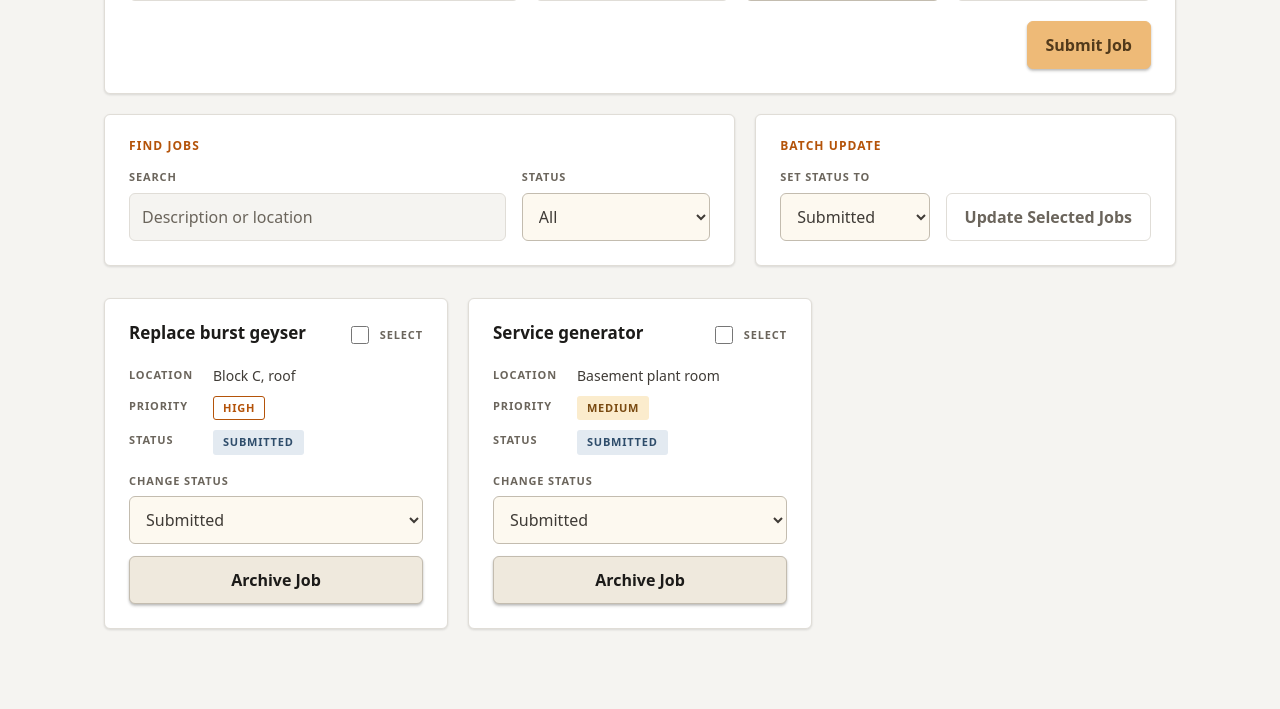
Test: loading and errors › still explains an empty search while an error is showing
(page scrolled)
Check: the heading "Replace burst geyser" is shown, box x1=129 y1=323 x2=321 y2=343
Click the button "Archive Job" below "high" at (276, 580), box x1=129 y1=556 x2=423 y2=604
(page scrolled)
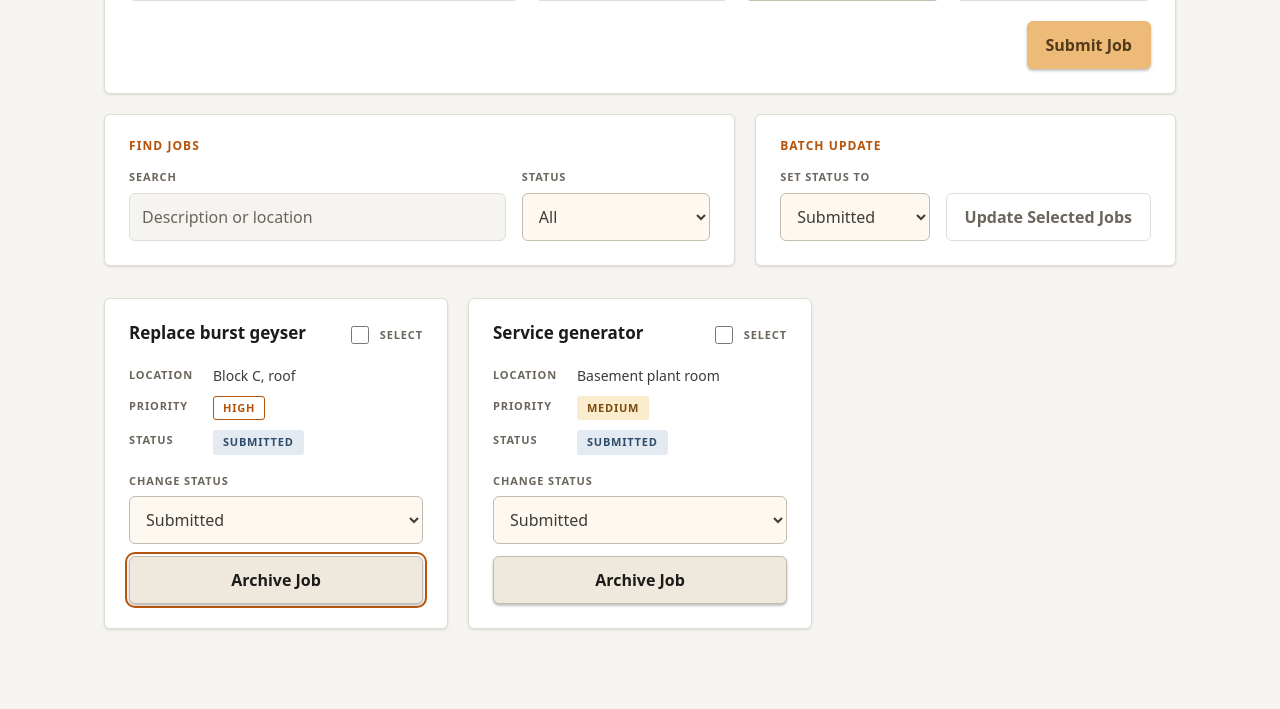
Type "zzz" into the search field labelled "Search" at (317, 217), box x1=129 y1=193 x2=506 y2=241
(page scrolled)
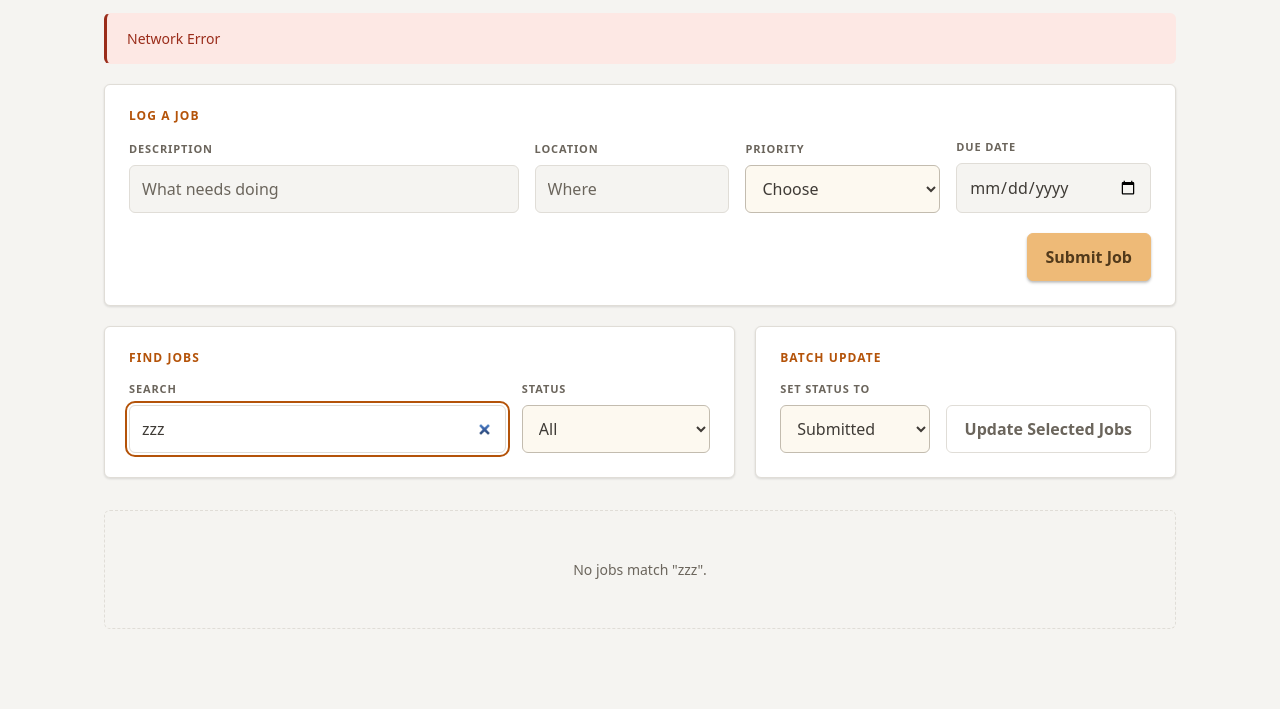
Check: the text "No jobs match \"zzz\"." is shown, box x1=104 y1=510 x2=1176 y2=629
